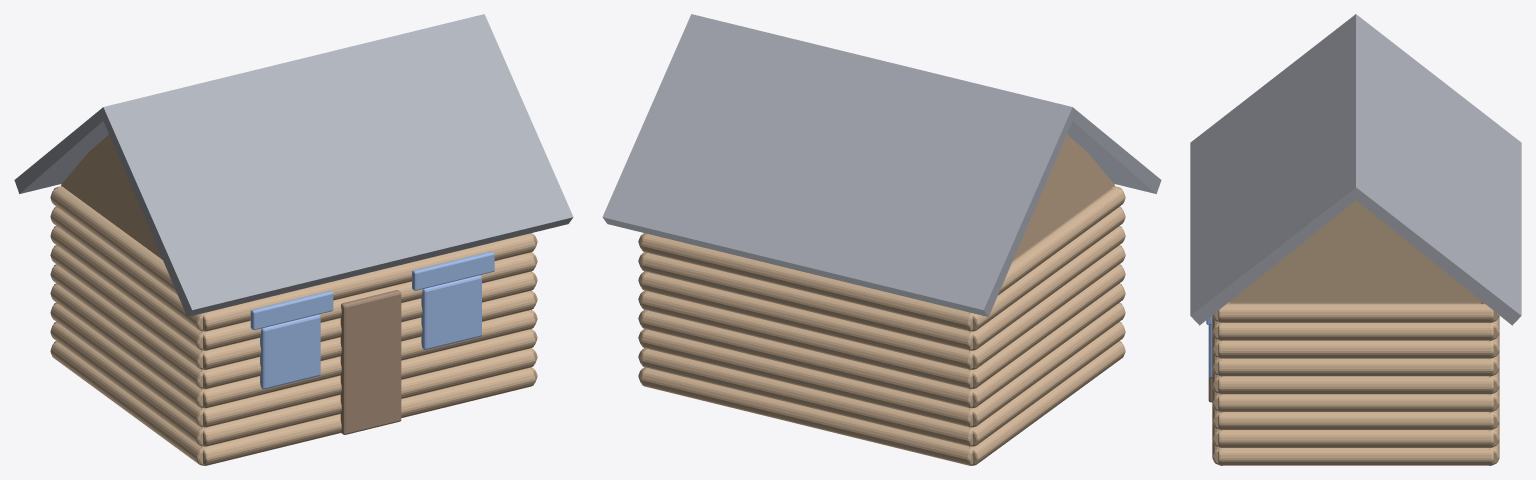
The model's file is lm_eslavo_izba.glb.
3 renders of one model, left to right at view 1: azimuth 30°, elevation 25°; view 2: azimuth 150°, elevation 25°; view 3: azimuth 270°, elevation 25°, orthographic. The views are drawn at different scales.
Parts seen in each view (by area): view 1: lm_eslavo_izba; view 2: lm_eslavo_izba; view 3: lm_eslavo_izba.
Part boxes in pixels (left/top/right/bottom): lm_eslavo_izba: left=14, top=14, right=573, bottom=465; lm_eslavo_izba: left=602, top=14, right=1161, bottom=465; lm_eslavo_izba: left=1190, top=14, right=1521, bottom=465.
Size of the model in its own units: 5.2 by 4.1 by 4.2.
